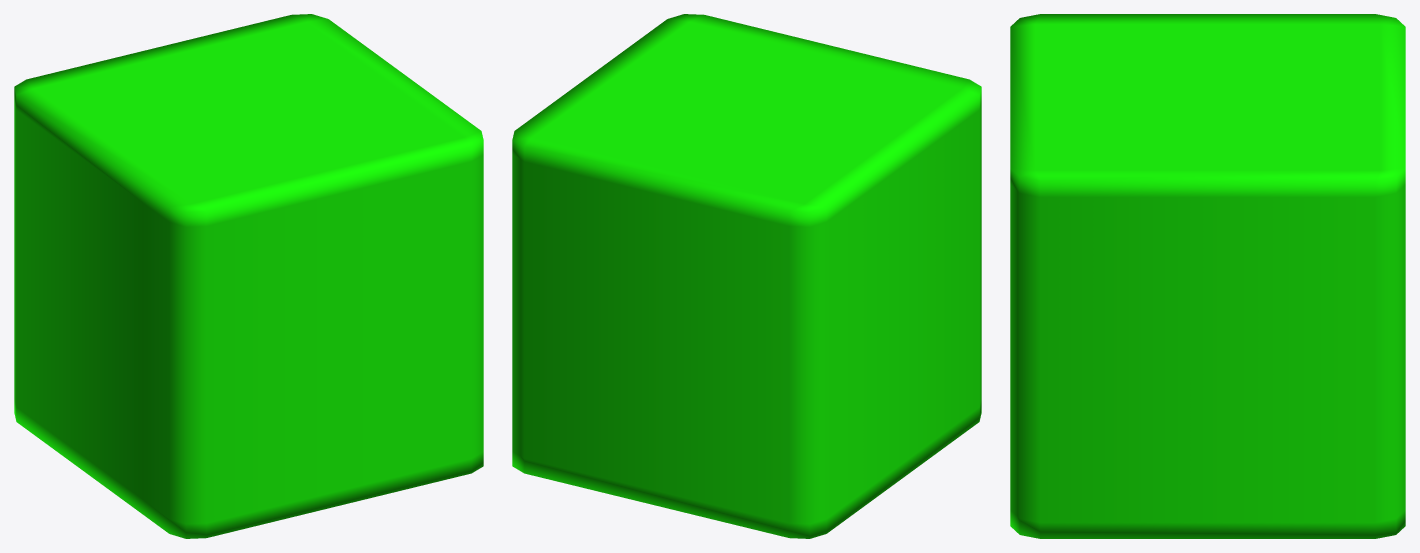
The model's file is wooden_block_1x1_01.FBX.
3 renders of one model, left to right at view 1: azimuth 30°, elevation 25°; view 2: azimuth 150°, elevation 25°; view 3: azimuth 270°, elevation 25°, orthographic. The views are drawn at different scales.
Parts seen in each view (by area): view 1: wooden_block_1x1_01; view 2: wooden_block_1x1_01; view 3: wooden_block_1x1_01.
Part boxes in pixels (left/top/right/bottom): wooden_block_1x1_01: left=14, top=14, right=483, bottom=538; wooden_block_1x1_01: left=512, top=14, right=981, bottom=538; wooden_block_1x1_01: left=1010, top=14, right=1405, bottom=538.
Size of the model in its own units: 196 by 196 by 196.
